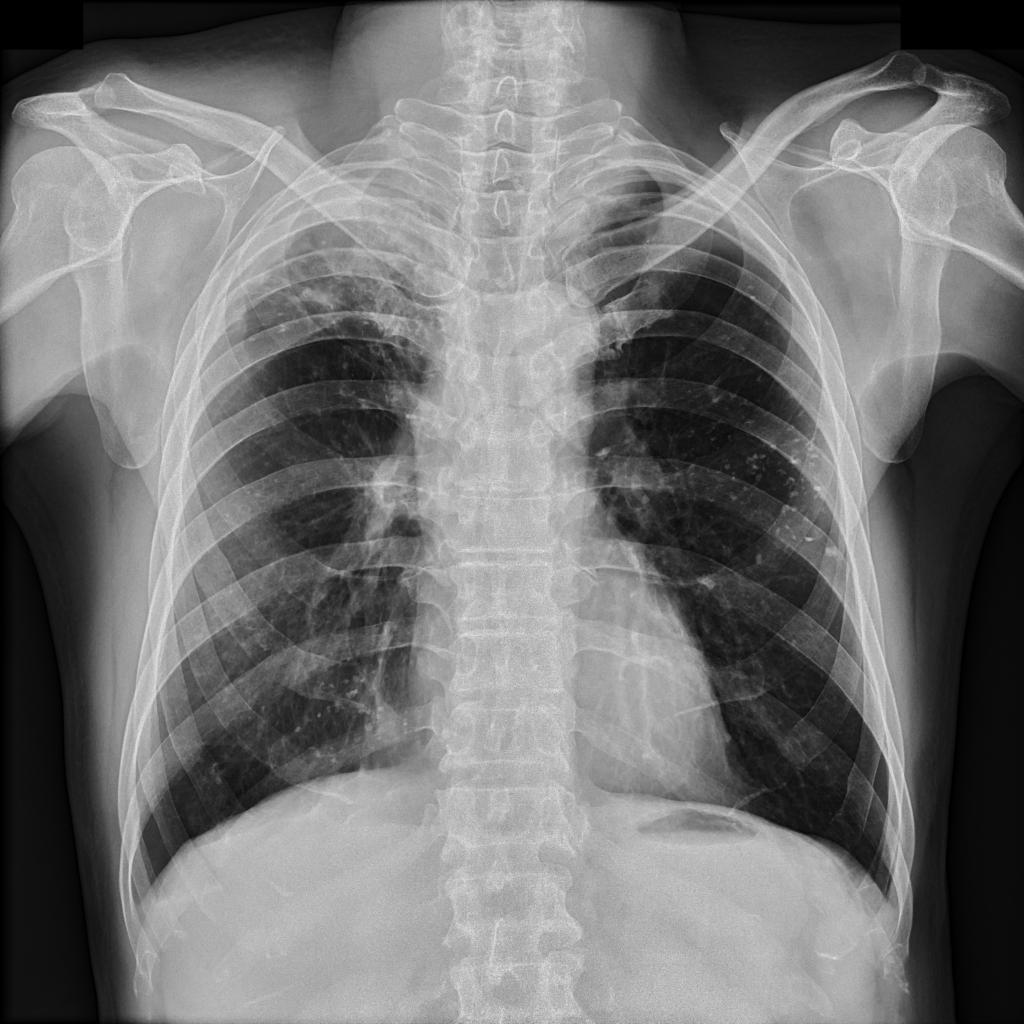Nodule: (688, 399, 844, 561)
